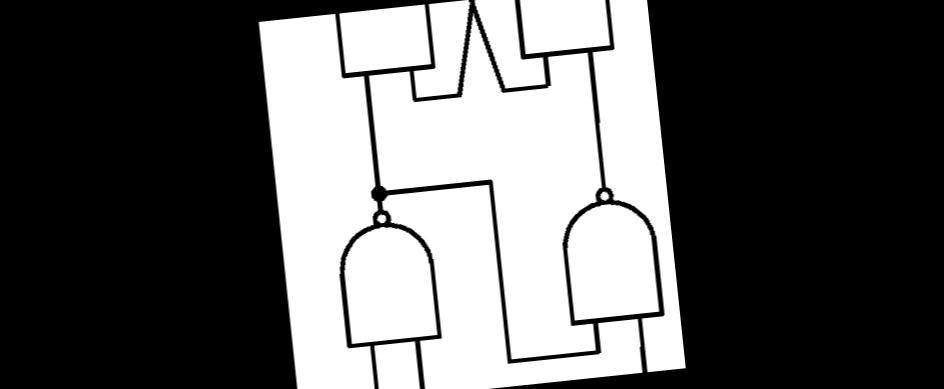nand: (315, 194, 462, 374), (544, 170, 673, 342), (325, 3, 443, 93), (505, 0, 624, 73)
